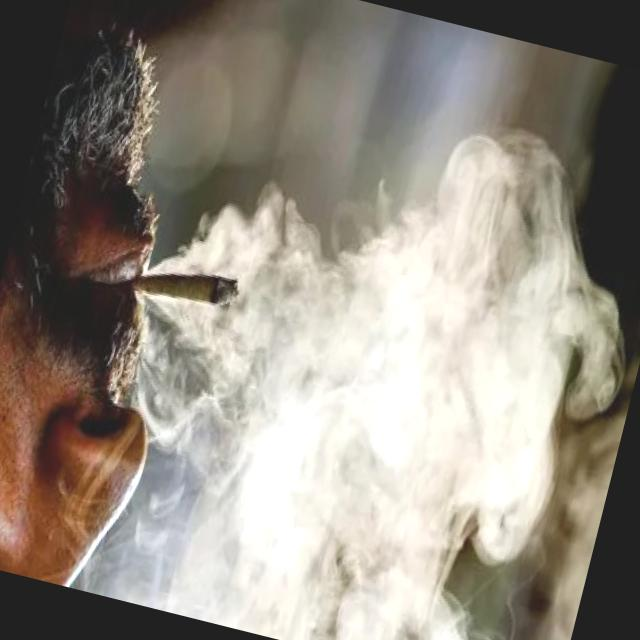cigarette: (129, 251, 244, 317)
